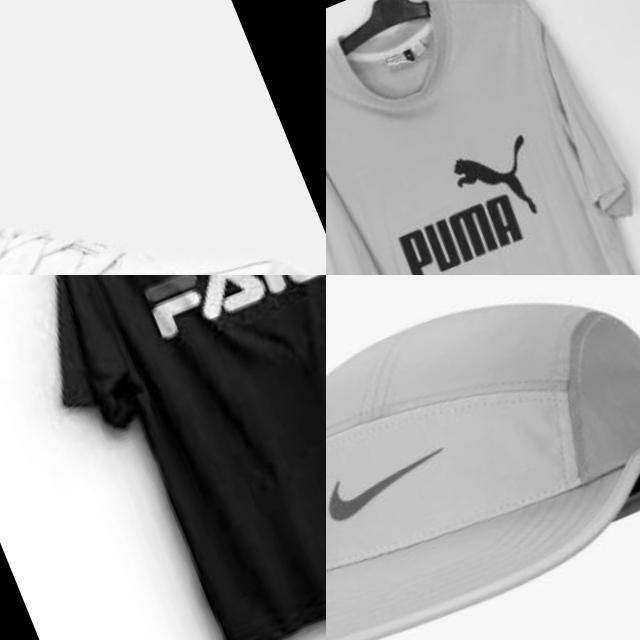FILA_fake: (123, 275, 326, 362)
NIKE_original: (326, 422, 467, 543)
PUMA_original: (357, 109, 576, 275)
